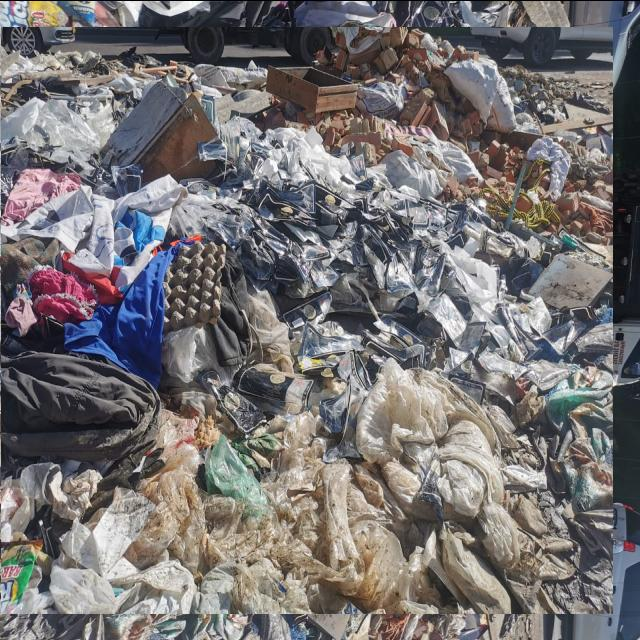garbage: (0, 13, 601, 626)
